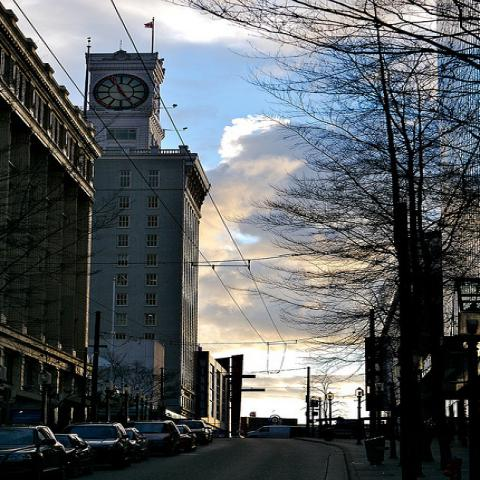car: (0, 425, 71, 479), (62, 421, 131, 470), (54, 434, 95, 478), (136, 420, 181, 456), (177, 420, 214, 444), (125, 428, 152, 460), (246, 426, 295, 438), (174, 426, 198, 448)
